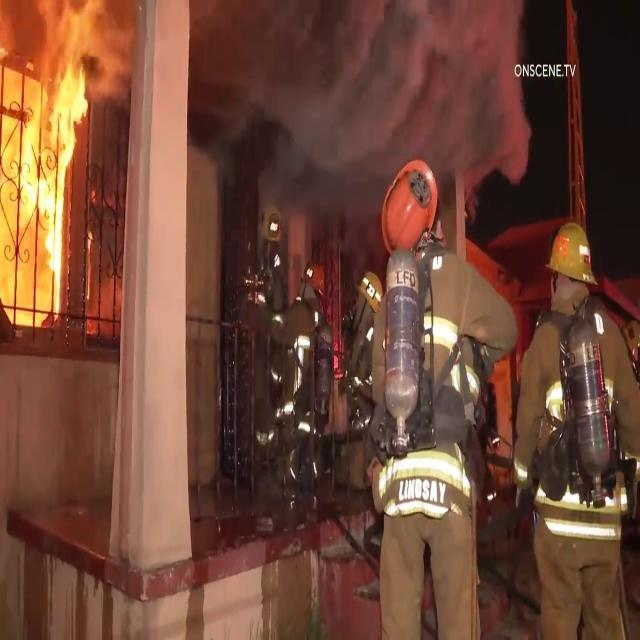Fire: (19, 48, 82, 296)
Smoke: (190, 0, 538, 156)
